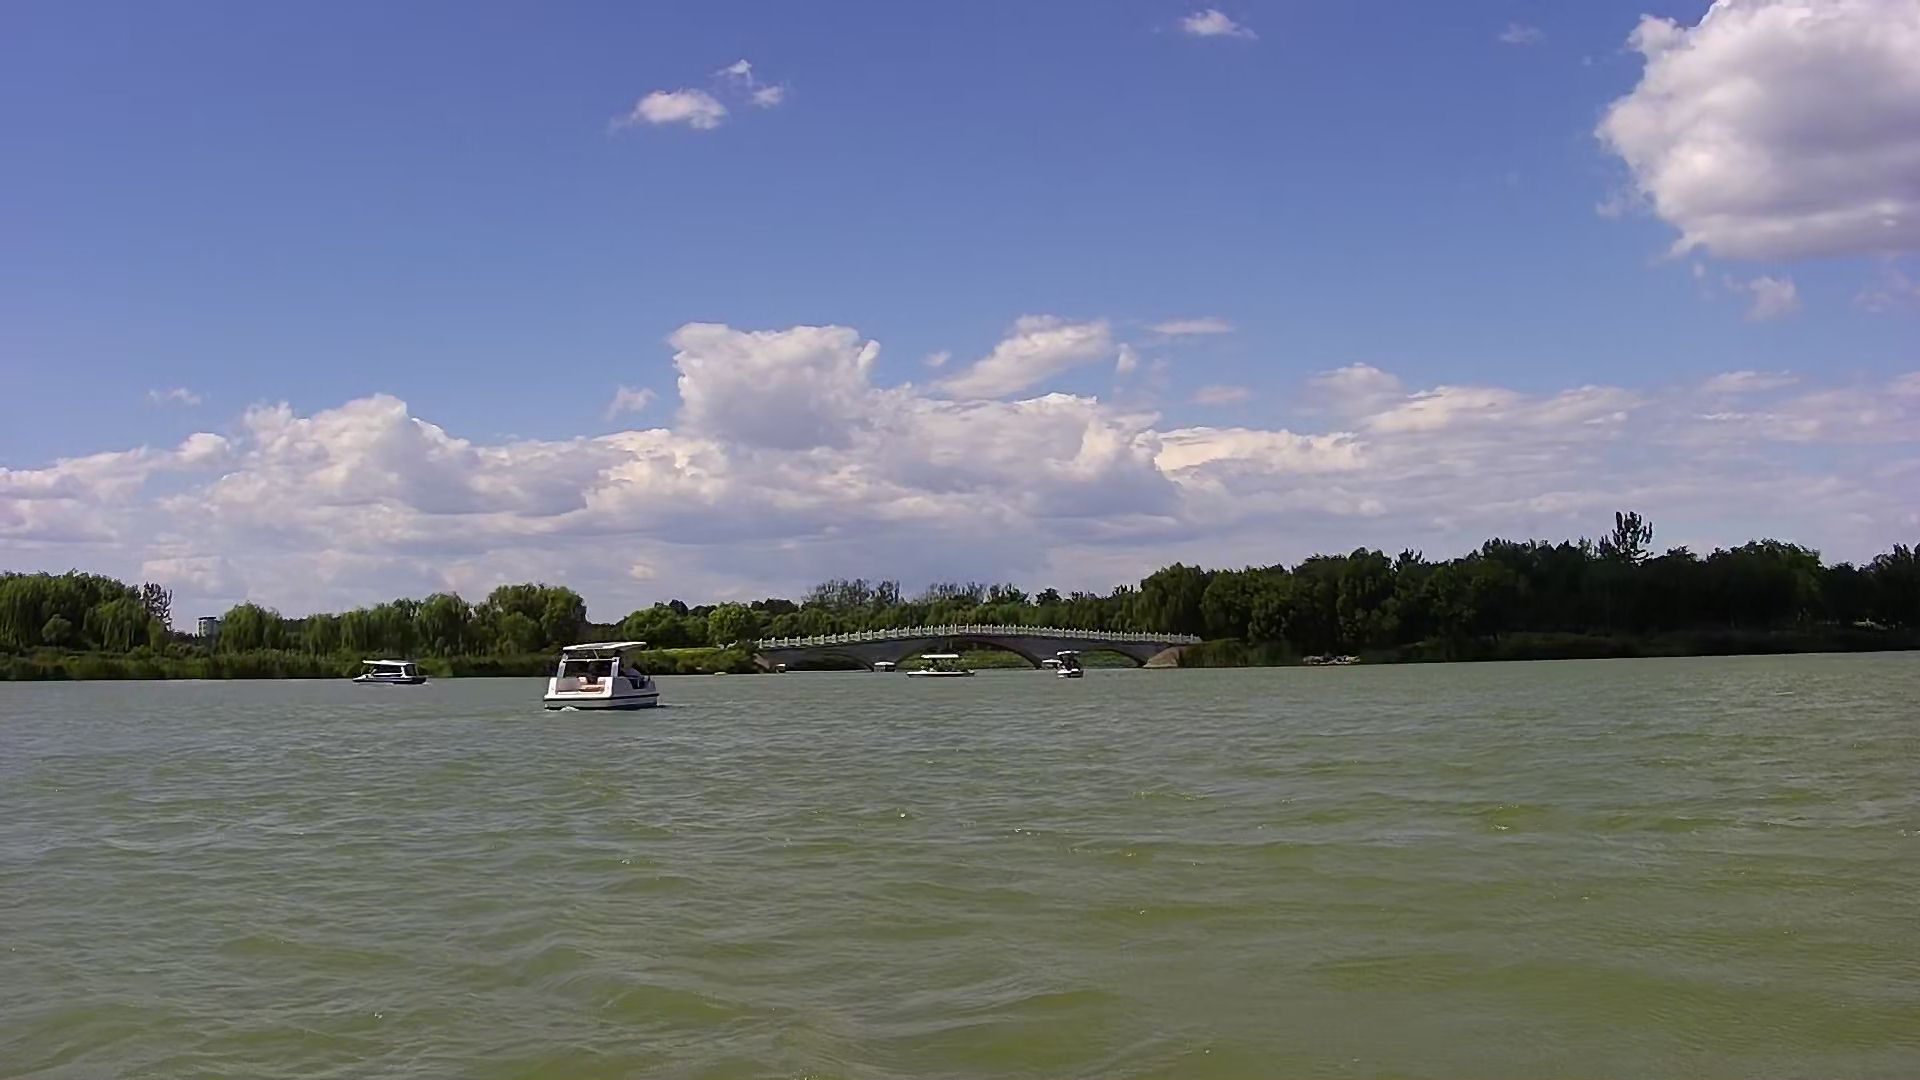boat: (535, 637, 669, 708), (902, 650, 986, 682), (349, 663, 425, 687)
bridge: (764, 621, 1188, 678)
